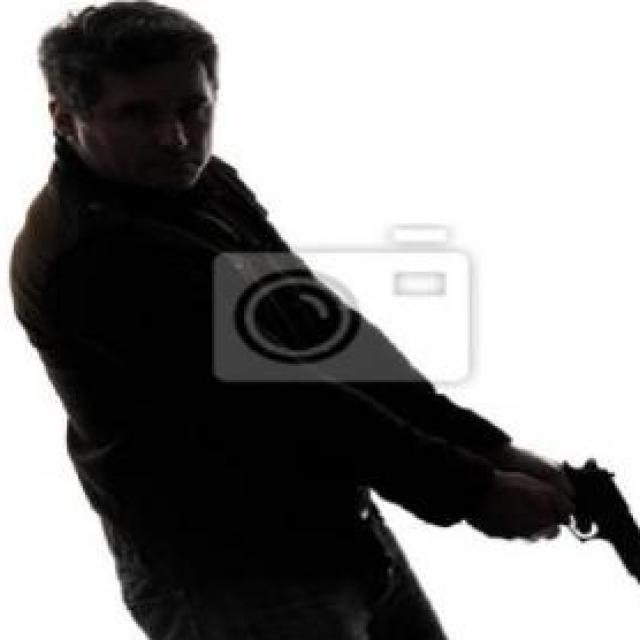pistol: (543, 446, 640, 584)
